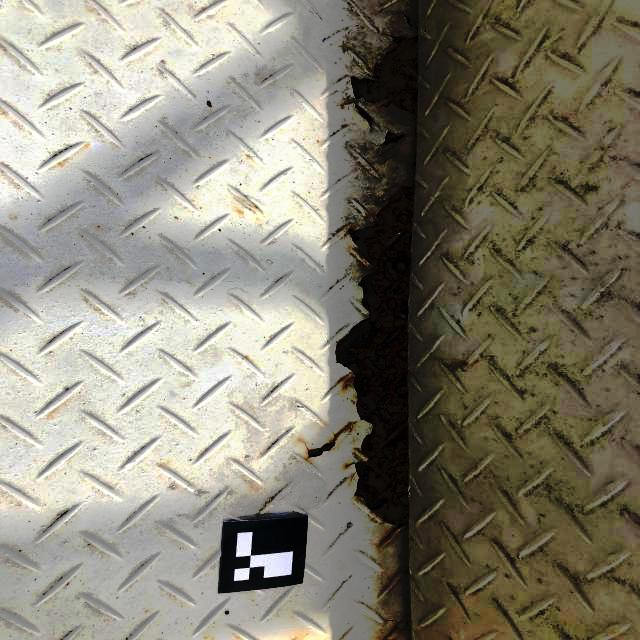Corrosion: (335, 186, 414, 527), (351, 35, 418, 114), (354, 101, 382, 130), (307, 441, 335, 458), (382, 130, 406, 145)
